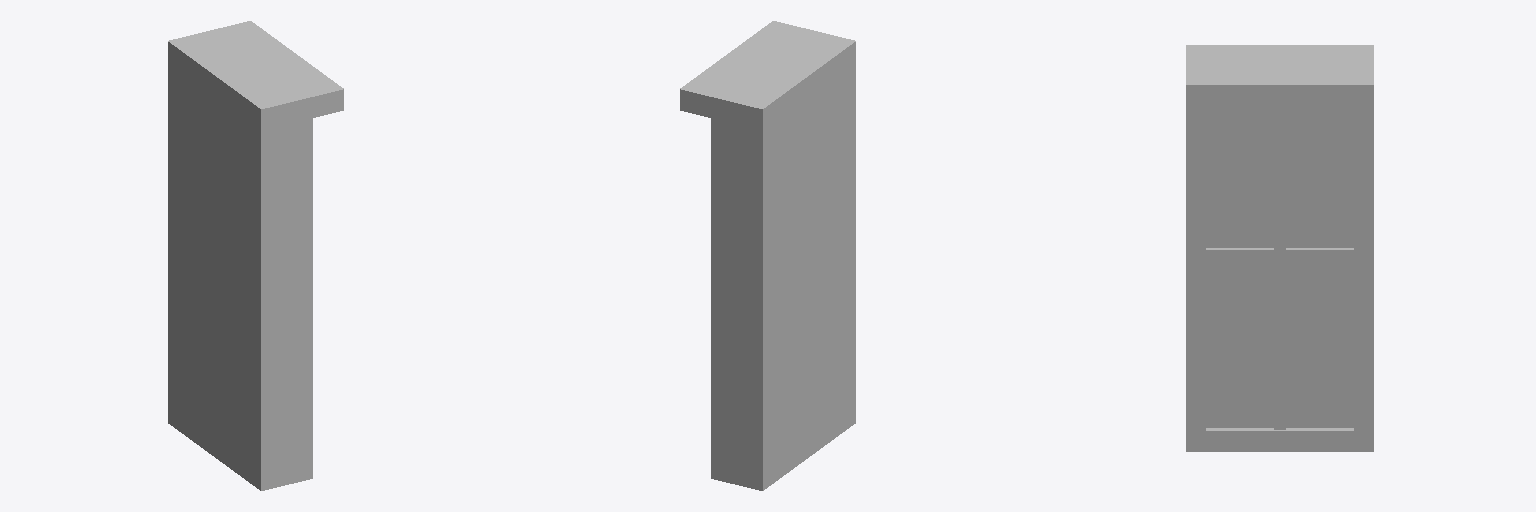
File: Window.obj
3 renders of one model, left to right at view 1: azimuth 30°, elevation 25°; view 2: azimuth 150°, elevation 25°; view 3: azimuth 270°, elevation 25°, orthographic.
Visible parts, largest first — view 1: pCube19; view 2: pCube19; view 3: pCube19.
Boxes of the visible parts, <box> form: pCube19: <box>168,21,343,490</box>; pCube19: <box>680,21,855,490</box>; pCube19: <box>1186,45,1373,451</box>.
Bounding box in the file's own units: 1.57 × 6.89 × 3.06.